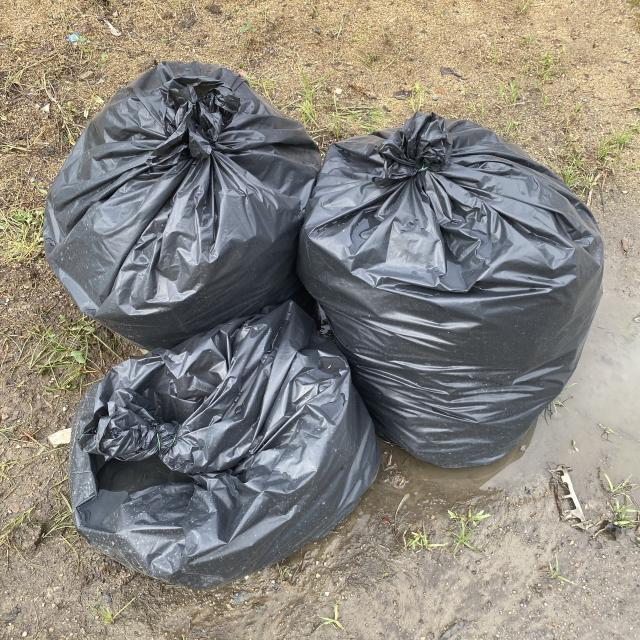Single-layer Plastic: (298, 112, 604, 468), (69, 301, 380, 588), (44, 61, 321, 349)
